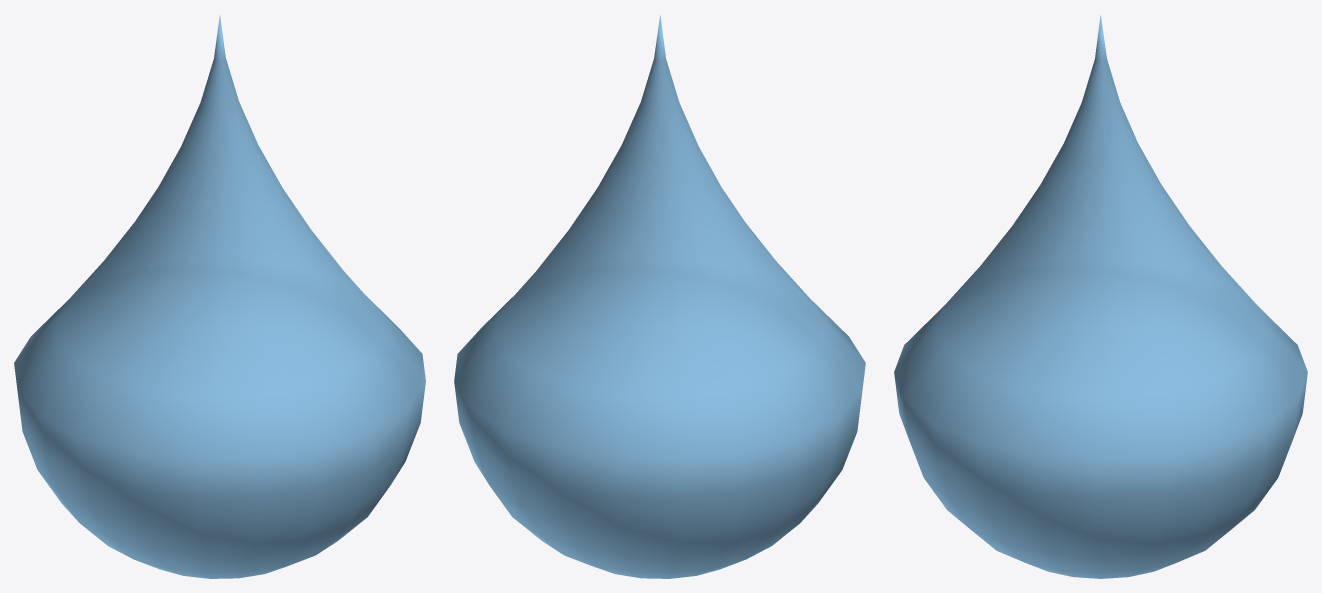
File: Water.fbx
The picture shows the model from 3 angles, left to right: view 1: azimuth 30°, elevation 25°; view 2: azimuth 150°, elevation 25°; view 3: azimuth 270°, elevation 25°; orthographic projection.
Parts seen in each view (by area): view 1: water_item; view 2: water_item; view 3: water_item.
Boxes of the visible parts, x1,y1,x2,y2 form: water_item: (14, 15, 425, 578); water_item: (454, 15, 865, 578); water_item: (894, 15, 1307, 578).
Size of the model in its own units: 0.11 by 0.16 by 0.11.
